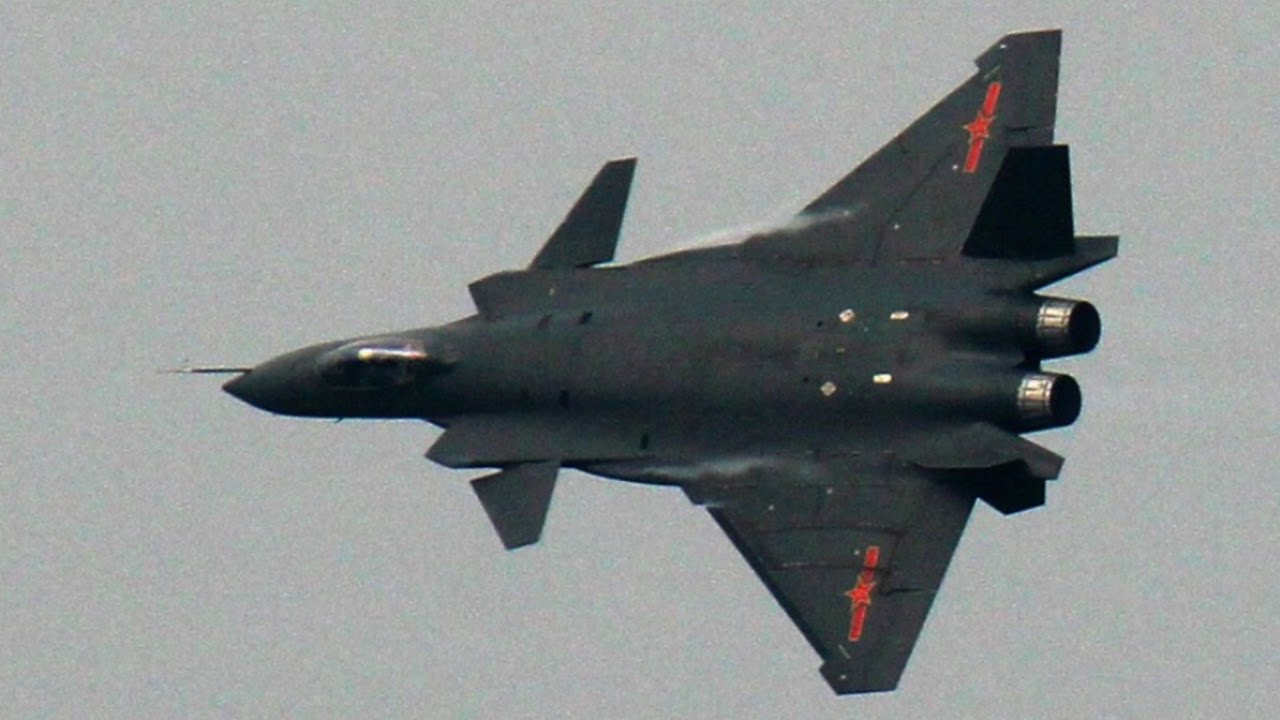J20: (154, 28, 1120, 696)
